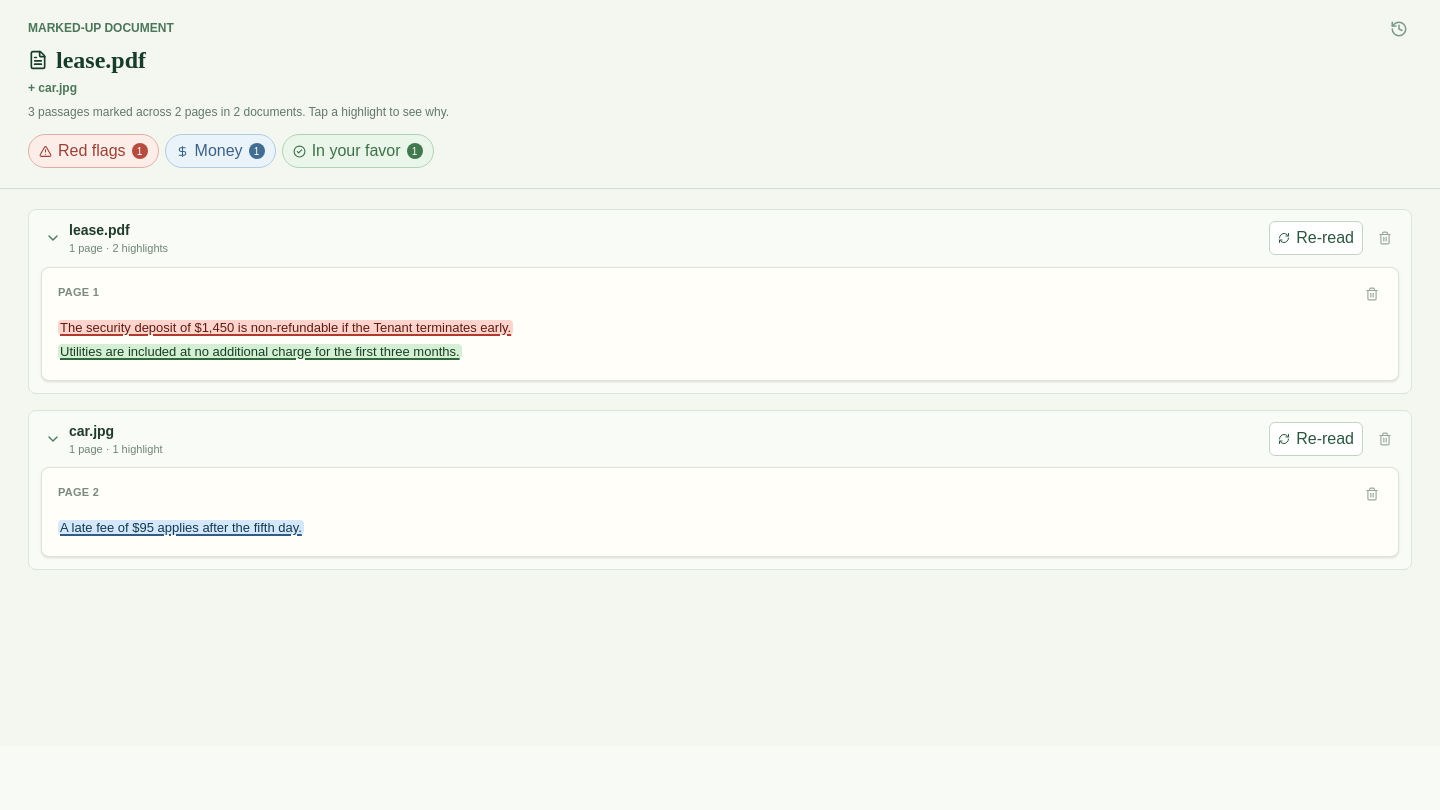
Test: documents in the panel › asks the server to read one file again and reports what it found
Click the button with aria-label "Read car.jpg again". click: (1316, 439)
box: [1269, 422, 1363, 456]
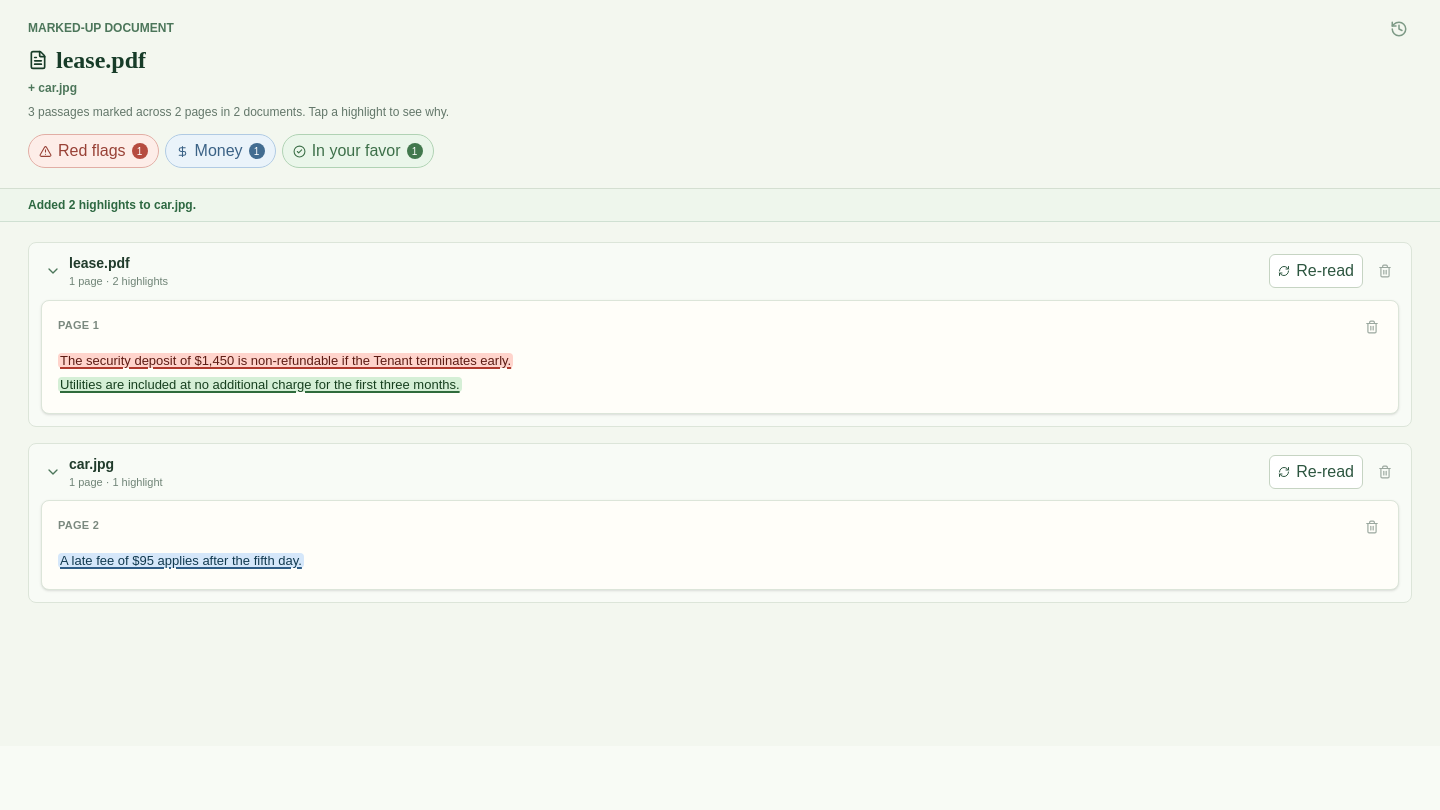
Expected: the message reads "Added 2 highlights to car.jpg.", [28, 198, 196, 212]
